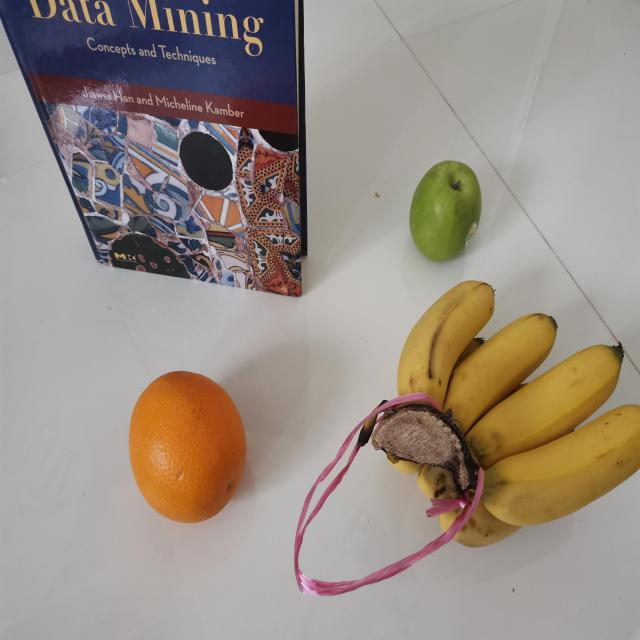Apple: (406, 160, 483, 265)
Banana: (367, 278, 640, 550)
Book: (2, 2, 306, 300)
Orange: (128, 370, 249, 524)
